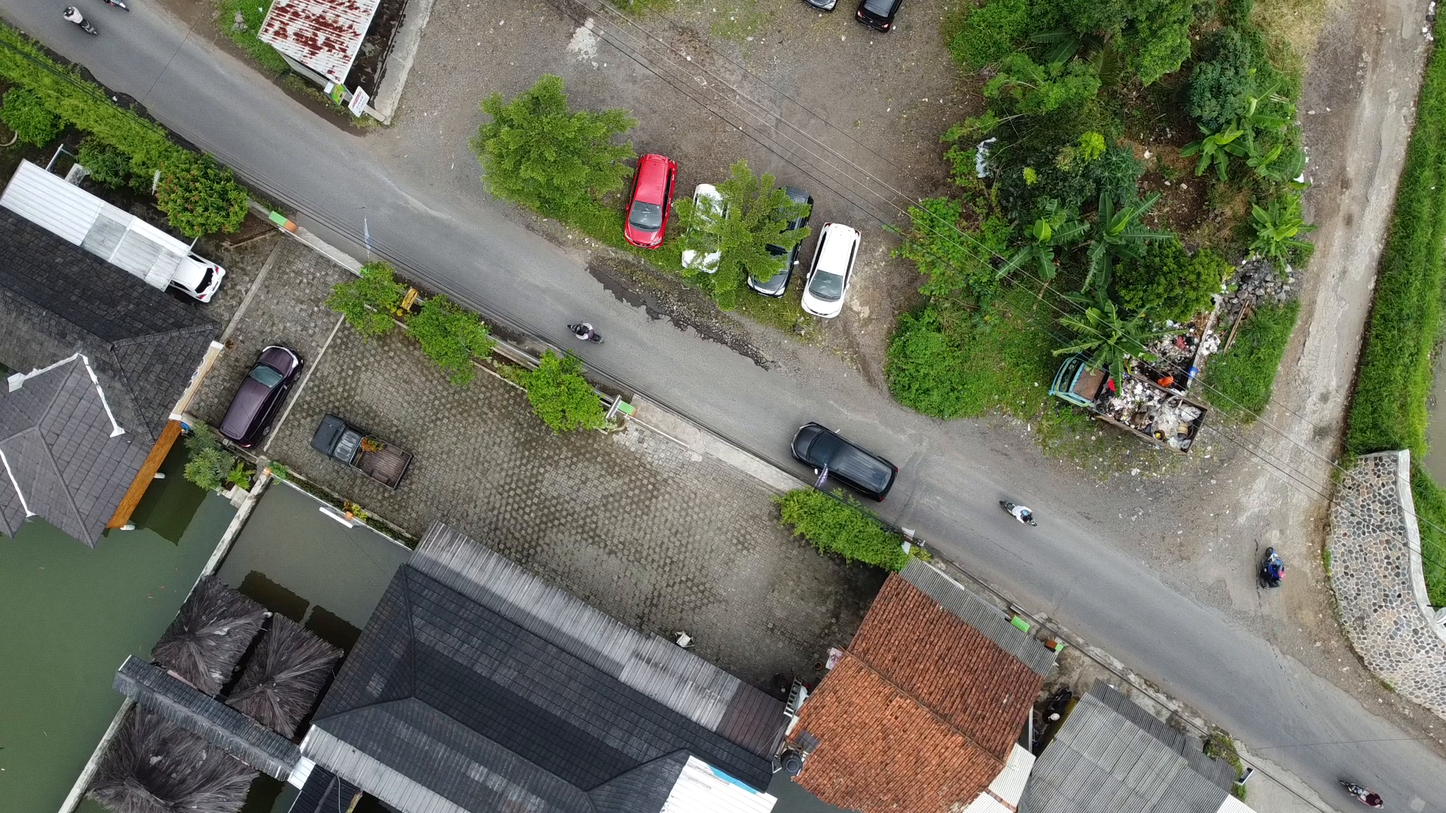mobil: (789, 405, 901, 506), (304, 408, 429, 497), (215, 333, 308, 441), (742, 170, 813, 303), (807, 205, 861, 333), (674, 175, 733, 288), (615, 147, 677, 250), (166, 244, 236, 312)
